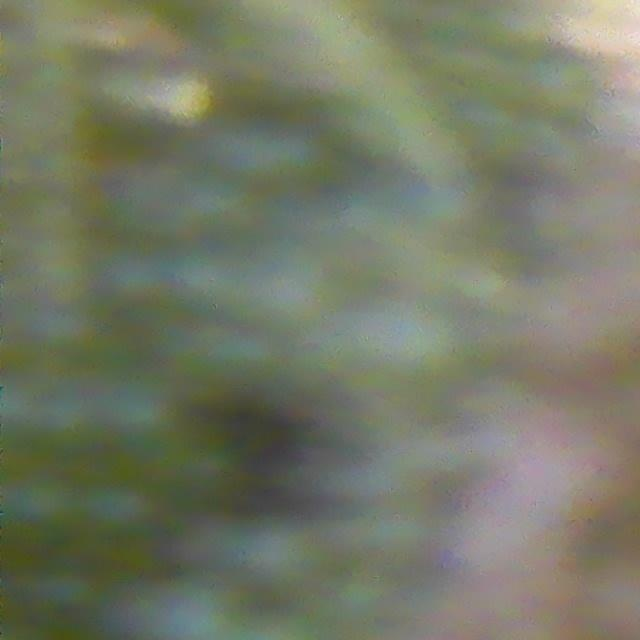SeaGrape: (101, 371, 181, 451)
